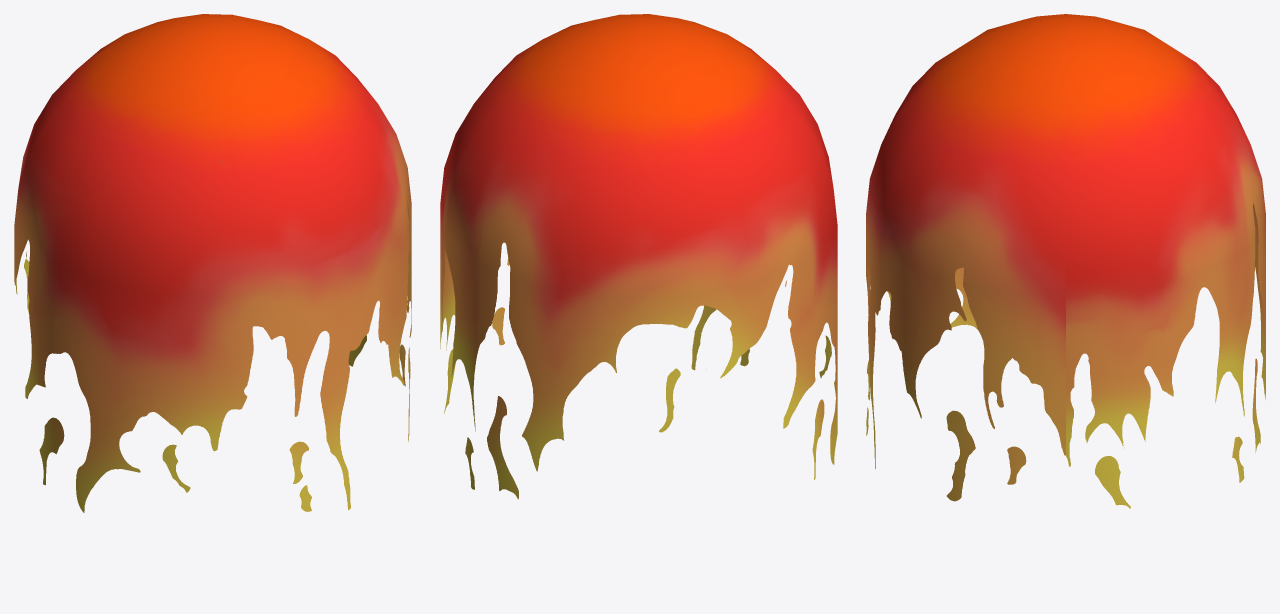
The model's file is M_fire_fist.fbx.
3 renders of one model, left to right at view 1: azimuth 30°, elevation 25°; view 2: azimuth 150°, elevation 25°; view 3: azimuth 270°, elevation 25°, orthographic.
Visible parts, largest first — view 1: Sphere; view 2: Sphere; view 3: Sphere.
Part boxes in pixels (bbox=[...]): Sphere: bbox=[14, 14, 411, 512]; Sphere: bbox=[440, 14, 837, 499]; Sphere: bbox=[866, 14, 1265, 508].
Bounding box in the file's own units: 200 × 266 × 200.
